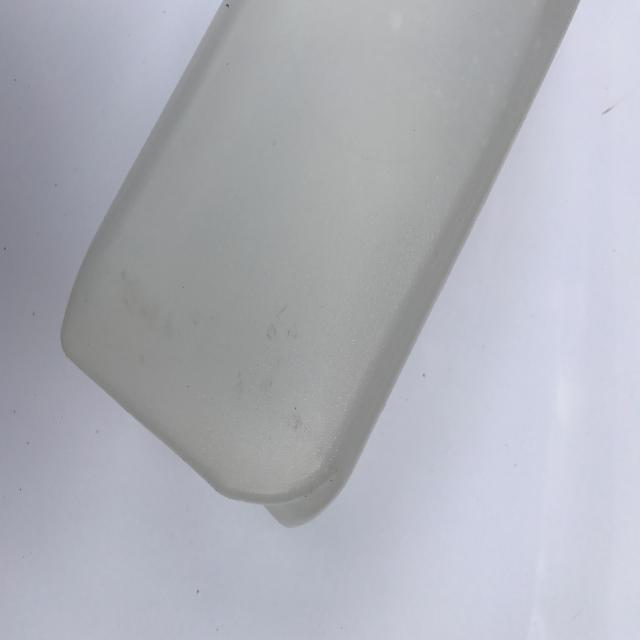plastic: (60, 0, 583, 529)
